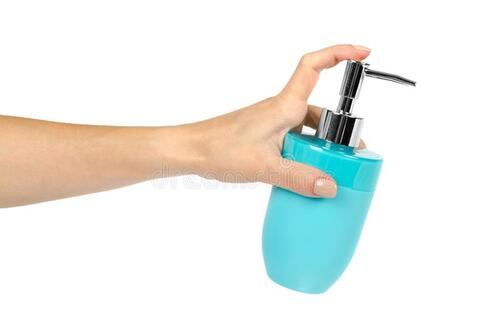sanitizer: (272, 59, 417, 277)
